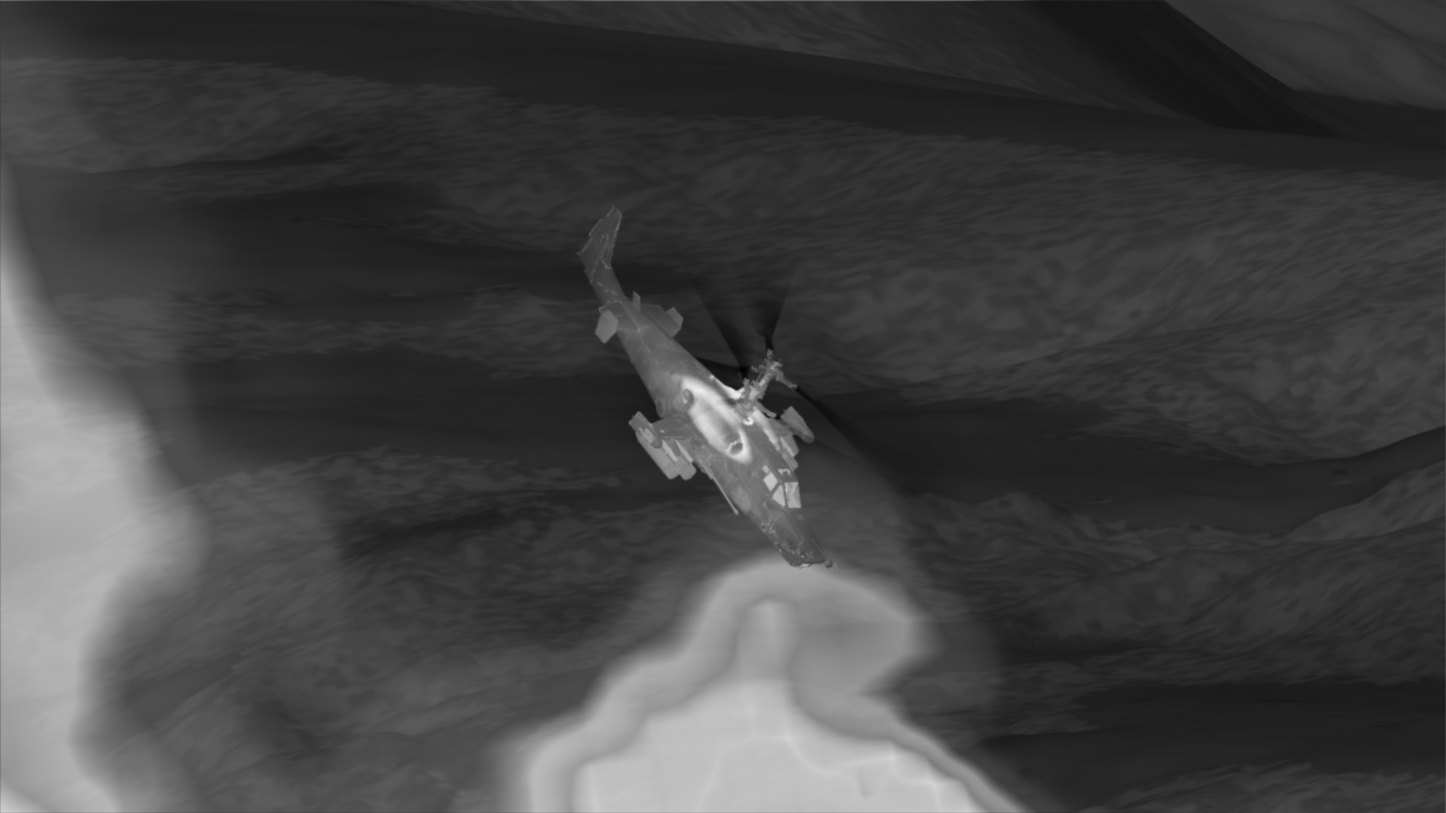ka50: (577, 205, 832, 570)
